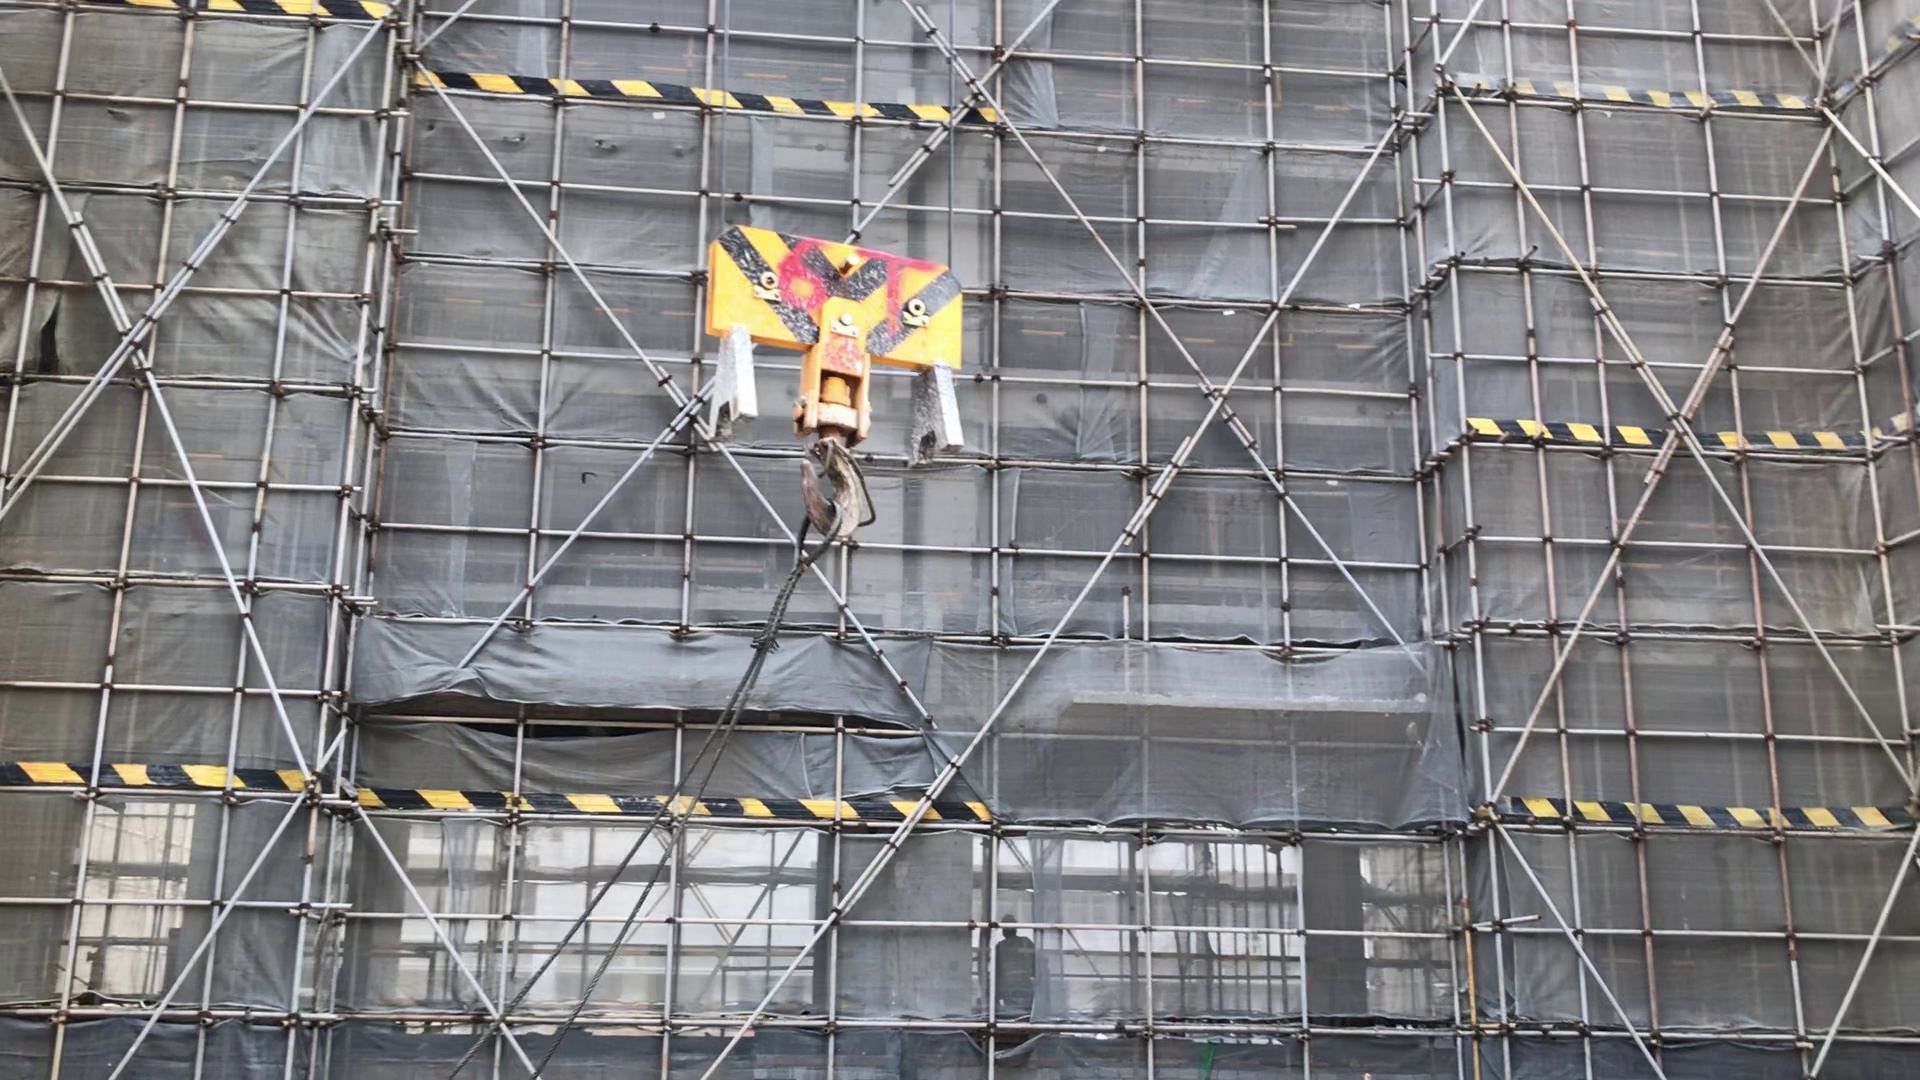helmet: (1000, 915, 1016, 923)
hook: (695, 221, 970, 535)
person: (996, 914, 1038, 1018)
